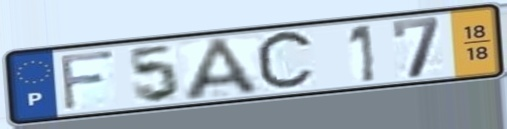1: (346, 22, 379, 85)
5: (125, 42, 182, 105)
7: (389, 14, 444, 82)
A: (181, 34, 266, 103)
C: (252, 27, 318, 96)
F: (57, 48, 118, 114)
